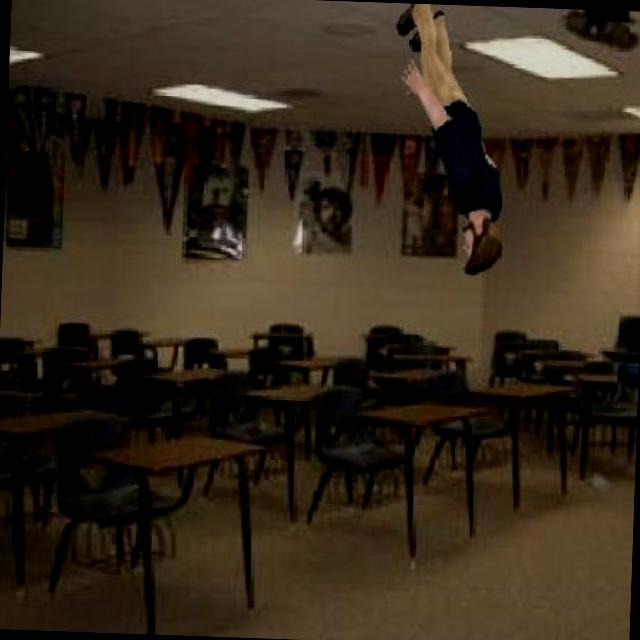Person: (386, 2, 515, 274)
